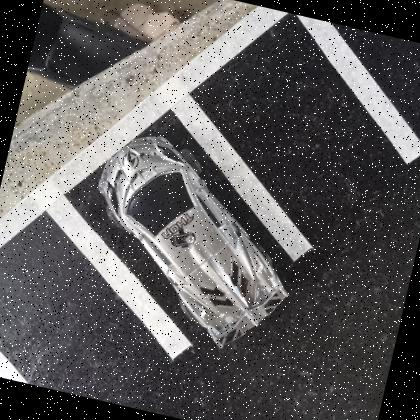Car: (96, 134, 288, 350)
